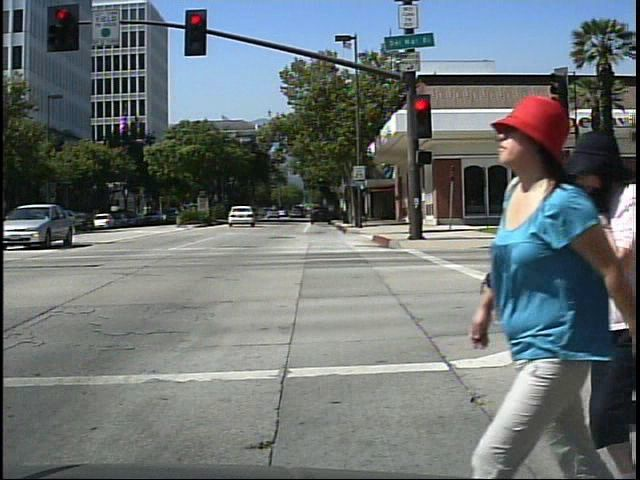person: (477, 79, 637, 480)
